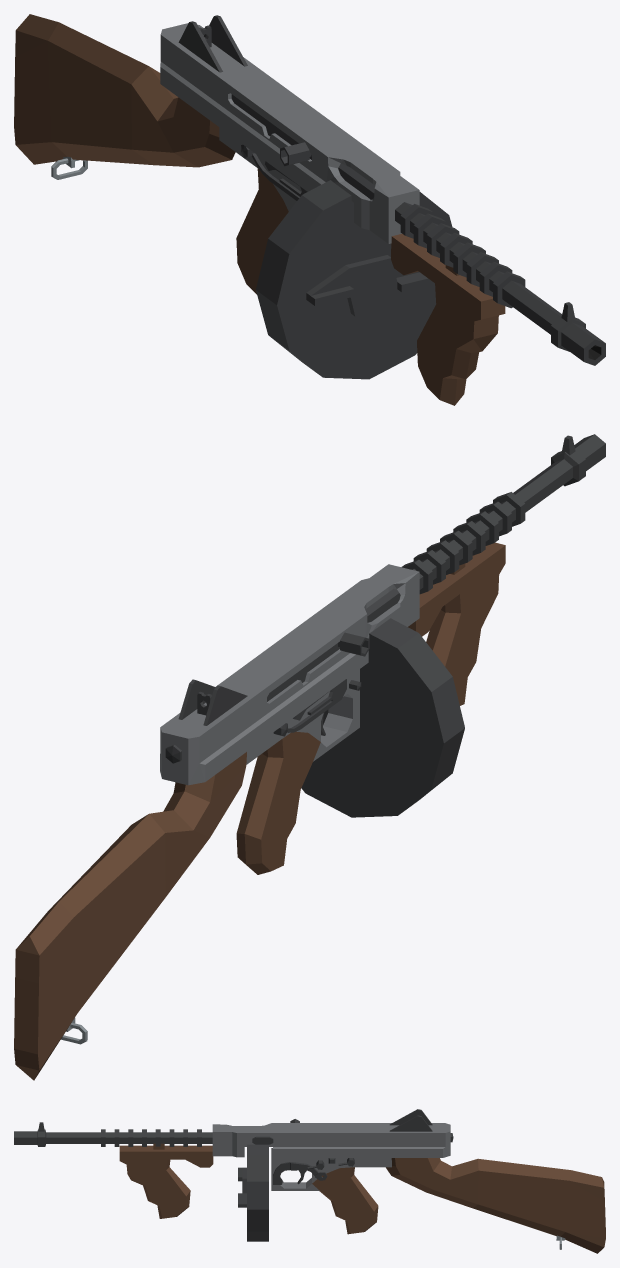
The model's file is SM_Wep_SubMachineGun_01.fbx.
3 views of the same model, one above another, from view 1: azimuth 30°, elevation 25°; view 2: azimuth 150°, elevation 25°; view 3: azimuth 270°, elevation 25° (orthographic). The views are drawn at different scales.
Visible parts, largest first — view 1: SM_Wep_SubMachineGun_01; view 2: SM_Wep_SubMachineGun_01; view 3: SM_Wep_SubMachineGun_01.
Part boxes in pixels (x1=…): SM_Wep_SubMachineGun_01: x1=14, y1=14, x2=605, y2=405; SM_Wep_SubMachineGun_01: x1=14, y1=434, x2=605, y2=1080; SM_Wep_SubMachineGun_01: x1=14, y1=1109, x2=605, y2=1253.
Bounding box in the file's own units: 16.06 × 22.56 × 85.74.
